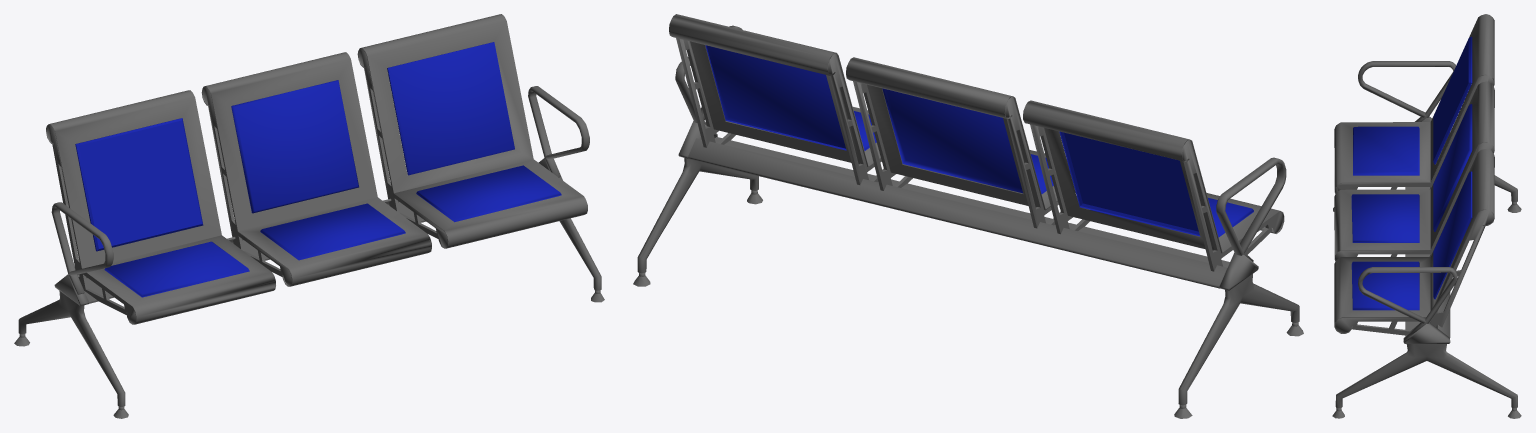
The model's file is Fence_new.fbx.
The picture shows the model from 3 angles, left to right: view 1: azimuth 30°, elevation 25°; view 2: azimuth 150°, elevation 25°; view 3: azimuth 270°, elevation 25°; orthographic projection. The views are drawn at different scales.
Visible parts, largest first — view 1: strong boy bench_obj; view 2: strong boy bench_obj; view 3: strong boy bench_obj.
Part boxes in pixels (x1,y1,x2,y2): strong boy bench_obj: (14, 14, 604, 418); strong boy bench_obj: (633, 14, 1303, 418); strong boy bench_obj: (1332, 14, 1521, 418).
Size of the model in its own units: 178 by 78.99 by 67.34.
